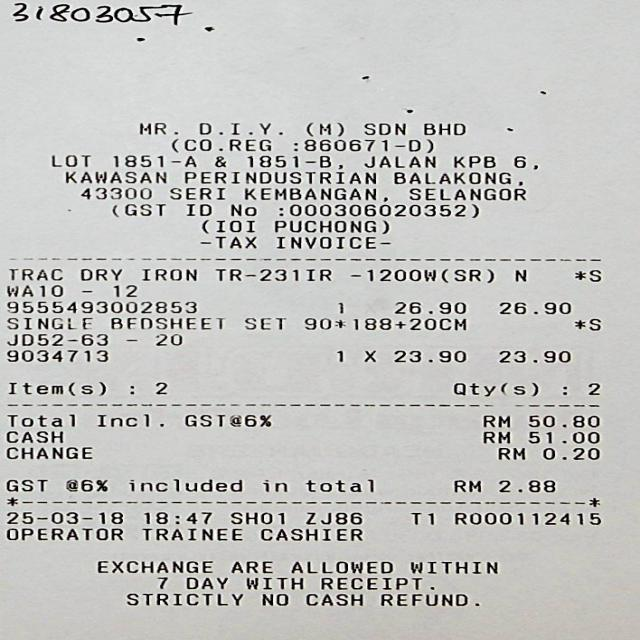text: (278, 203, 476, 217), (183, 171, 374, 183), (7, 300, 194, 312), (304, 316, 464, 329), (348, 268, 491, 282), (244, 187, 385, 200), (291, 139, 430, 152), (454, 512, 599, 524), (391, 172, 520, 184), (128, 478, 240, 491), (5, 511, 122, 523), (95, 560, 211, 572), (170, 138, 269, 152), (213, 268, 328, 280), (5, 527, 120, 539), (272, 220, 386, 232), (7, 381, 104, 395), (408, 188, 524, 199), (126, 593, 241, 604), (275, 236, 388, 247), (246, 155, 341, 168), (5, 333, 106, 345), (451, 382, 535, 396), (5, 349, 106, 360), (319, 577, 420, 588), (110, 318, 220, 328), (260, 528, 360, 539), (290, 561, 390, 572), (65, 171, 164, 182), (141, 528, 240, 539), (182, 414, 270, 426), (378, 593, 466, 605), (409, 560, 496, 572), (197, 122, 281, 134), (111, 154, 194, 166), (5, 447, 90, 458), (527, 414, 598, 427), (527, 430, 598, 442), (5, 318, 90, 328), (363, 155, 433, 167), (499, 350, 568, 362), (5, 414, 73, 426), (304, 479, 372, 491), (142, 511, 209, 523), (392, 350, 464, 361), (80, 187, 149, 198), (200, 218, 252, 232), (198, 235, 254, 248), (393, 302, 463, 312), (499, 302, 569, 312), (540, 447, 598, 459), (496, 479, 553, 491), (97, 413, 149, 426), (112, 203, 163, 216), (5, 430, 60, 442), (168, 187, 222, 199), (140, 268, 194, 280), (229, 512, 283, 524), (244, 577, 301, 588), (304, 512, 360, 523), (304, 593, 360, 604), (5, 284, 60, 295), (7, 268, 61, 279), (304, 122, 340, 136), (452, 155, 493, 167), (80, 268, 120, 280), (65, 479, 105, 491), (6, 479, 46, 491), (49, 154, 88, 166), (138, 122, 176, 134), (362, 123, 403, 134), (229, 561, 270, 572), (423, 123, 463, 134), (185, 577, 225, 588), (244, 318, 284, 328), (408, 511, 434, 524), (573, 318, 599, 330), (154, 333, 180, 345), (482, 430, 508, 442), (497, 447, 523, 459), (260, 479, 285, 491), (454, 479, 479, 491), (512, 155, 535, 168), (482, 415, 508, 426), (260, 593, 286, 604), (184, 204, 209, 215), (230, 204, 255, 215), (111, 284, 135, 295), (573, 270, 599, 280), (212, 156, 224, 167), (586, 383, 598, 394), (156, 576, 167, 588), (362, 350, 374, 360), (154, 382, 164, 394), (514, 269, 524, 280), (334, 350, 342, 360), (336, 302, 343, 312)
